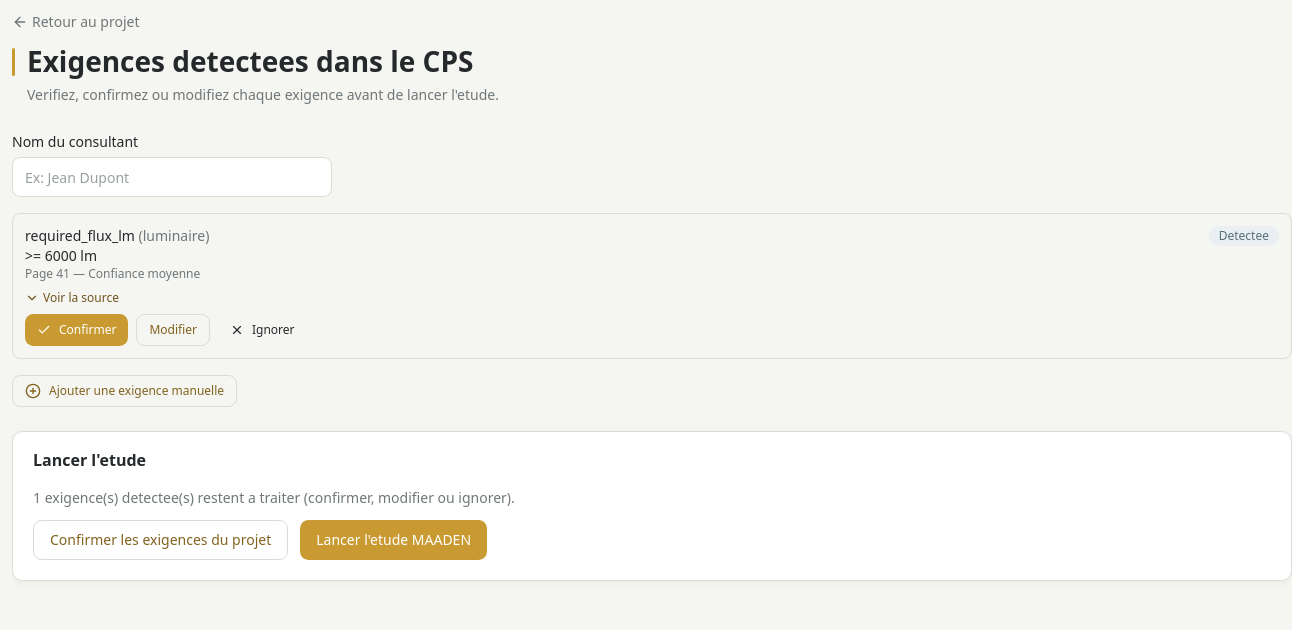
ProjectRequirementsPage › bloque la confirmation du projet si des exigences restent en attente
The image size is (1292, 630).
Click the button "Confirmer les exigences du projet": (161, 540) [33,520,288,560]
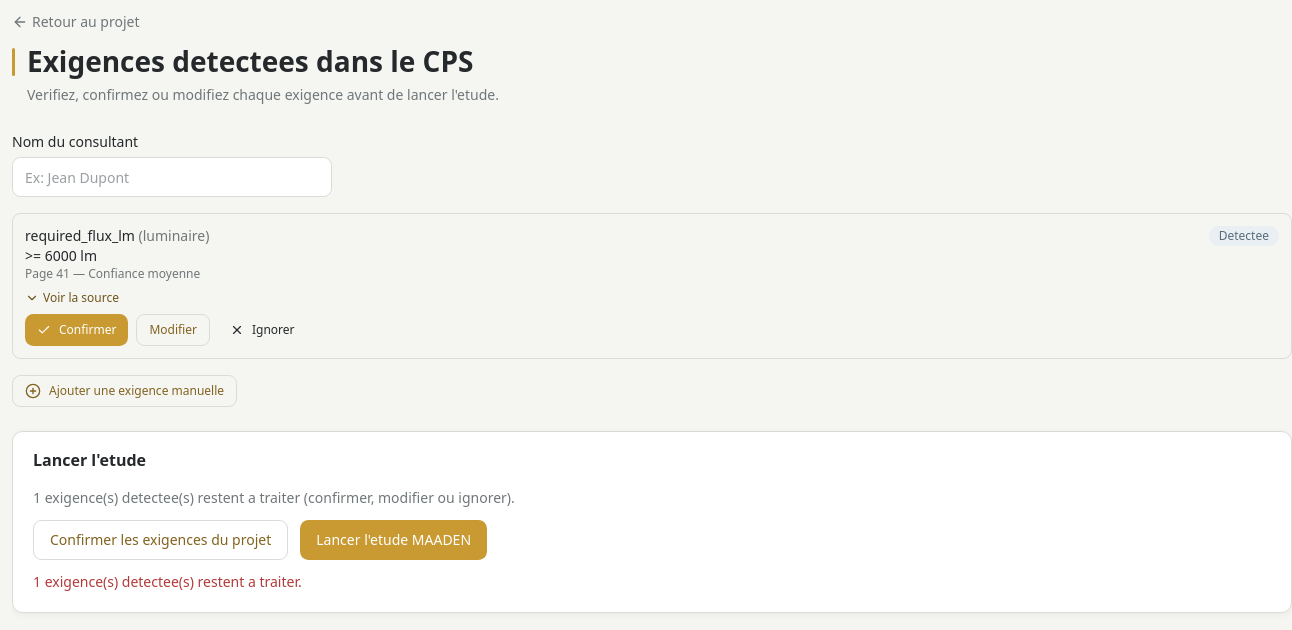
Result: the text "1 exigence(s) detectee(s) restent a traiter." is shown at [33,572,302,591]
